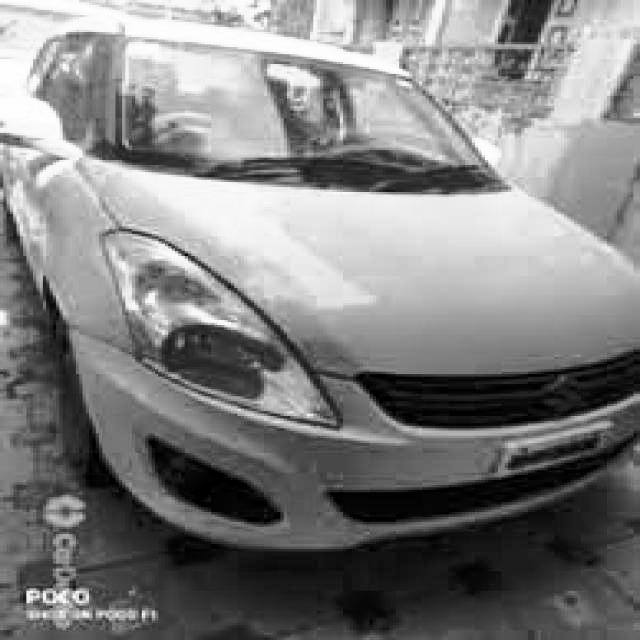Car: (0, 18, 639, 554)
